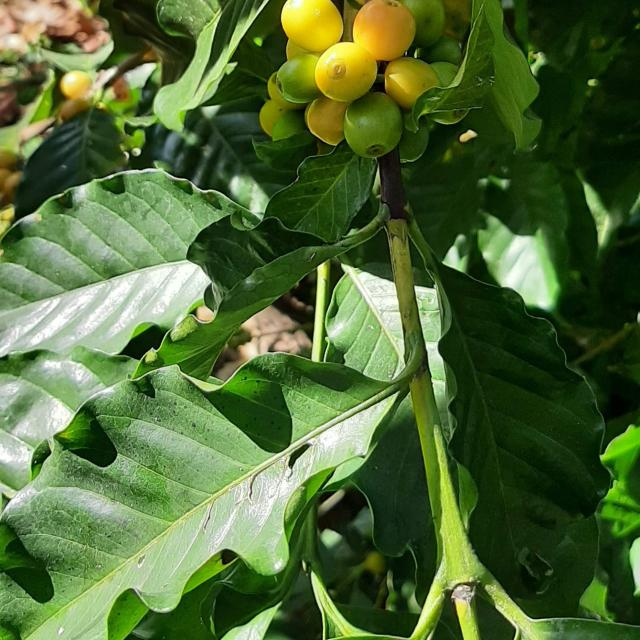green: (344, 91, 403, 157), (276, 52, 321, 103), (401, 0, 446, 46), (399, 122, 430, 162), (424, 33, 462, 65), (271, 109, 307, 140)
red: (353, 0, 416, 60)
yellow: (315, 41, 378, 101), (281, 0, 343, 51), (385, 56, 441, 109), (305, 95, 351, 145), (267, 71, 299, 109), (258, 98, 288, 136), (286, 38, 309, 59)
